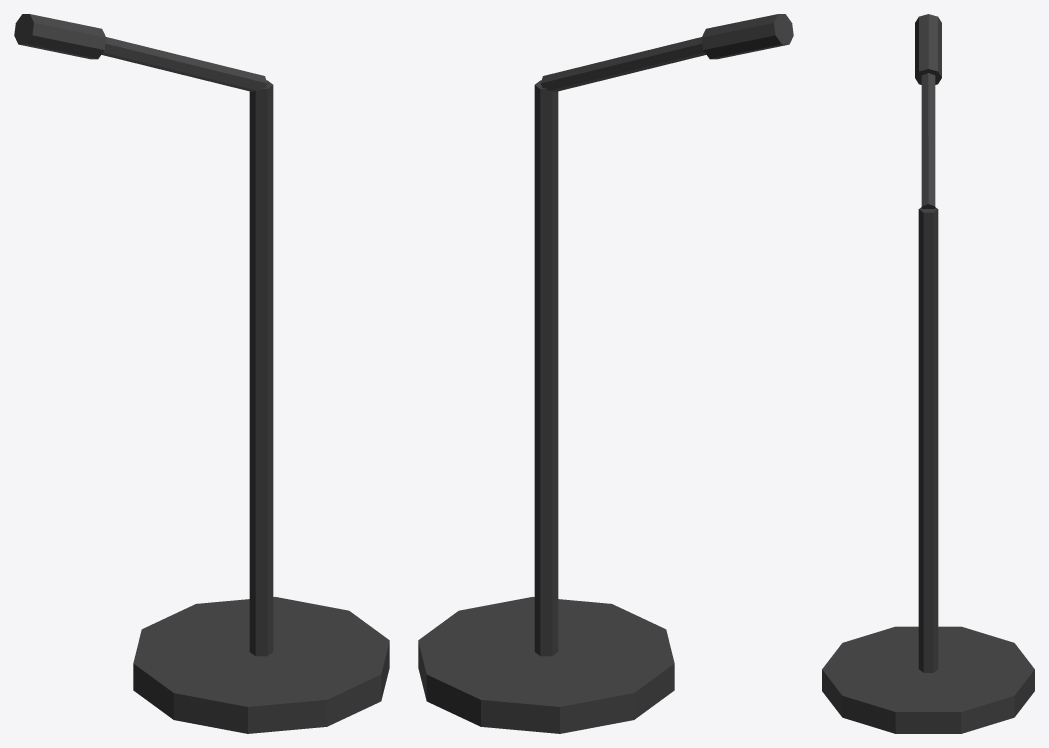
3 renders of one model, left to right at view 1: azimuth 30°, elevation 25°; view 2: azimuth 150°, elevation 25°; view 3: azimuth 270°, elevation 25°, orthographic. The views are drawn at different scales.
Visible parts, largest first — view 1: Base, Pole, Boom, Microphone; view 2: Base, Pole, Boom, Microphone; view 3: Base, Pole, Boom, Microphone.
Boxes of the visible parts, bbox=[...] form: Base: bbox=[133, 597, 389, 733]; Pole: bbox=[249, 80, 273, 656]; Boom: bbox=[101, 37, 267, 91]; Microphone: bbox=[14, 14, 106, 59]; Base: bbox=[418, 597, 674, 733]; Pole: bbox=[534, 80, 558, 656]; Boom: bbox=[540, 37, 706, 91]; Microphone: bbox=[701, 14, 793, 59]; Base: bbox=[822, 626, 1034, 733]; Pole: bbox=[918, 207, 938, 672]; Boom: bbox=[921, 73, 935, 208]; Microphone: bbox=[915, 14, 941, 84].
Size of the model in its own units: 68.03 by 134 by 44.
